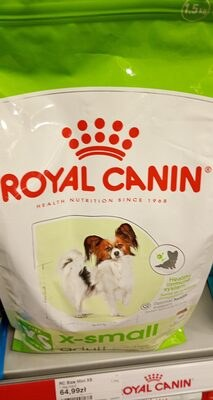ROYAL CANIN XSMALL ADULT: (11, 20, 202, 380)
